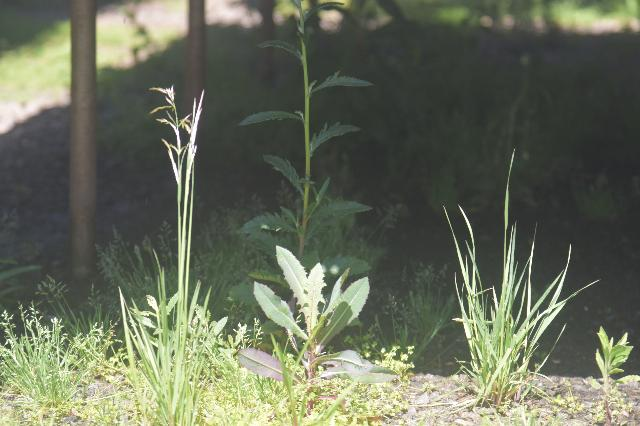MalezaMontesDelPlata: (436, 141, 583, 413), (113, 82, 222, 426), (234, 244, 400, 426), (250, 2, 337, 262), (0, 300, 112, 426), (589, 322, 638, 426)
